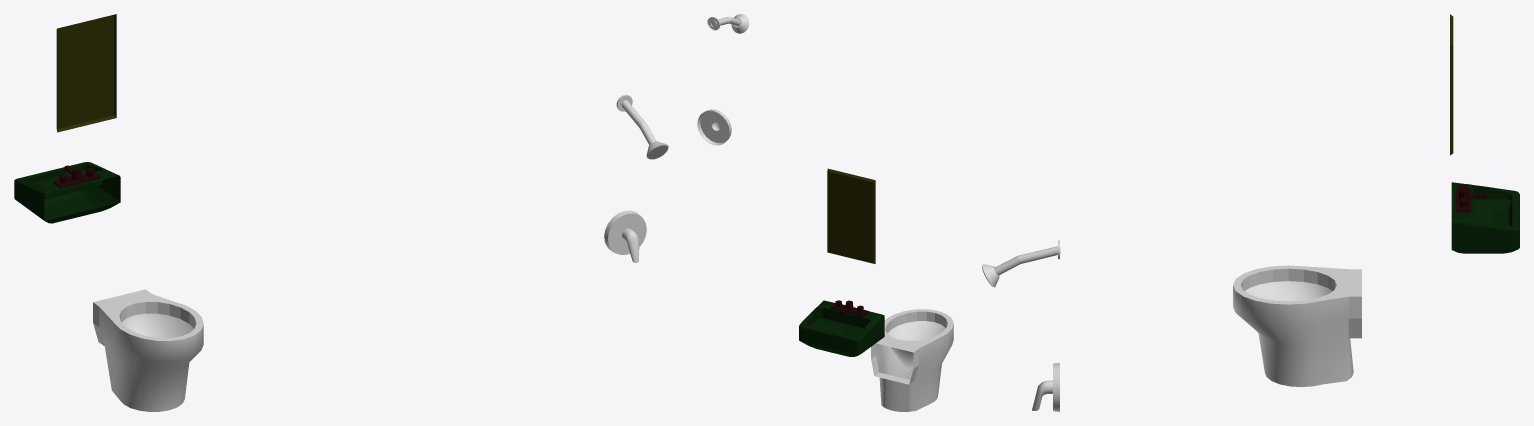
The picture shows the model from 3 angles, left to right: view 1: azimuth 30°, elevation 25°; view 2: azimuth 150°, elevation 25°; view 3: azimuth 270°, elevation 25°; orthographic projection. The views are drawn at different scales.
Visible parts, largest first — view 1: sinkAndMirror_ID, toilet1_ID, shower_ID; view 2: sinkAndMirror_ID, toilet1_ID, shower_ID; view 3: toilet1_ID, sinkAndMirror_ID, shower_ID.
Boxes of the visible parts, x1=… form: sinkAndMirror_ID: x1=14, y1=14, x2=120, y2=223; toilet1_ID: x1=93, y1=289, x2=203, y2=411; shower_ID: x1=604, y1=94, x2=668, y2=262; sinkAndMirror_ID: x1=799, y1=168, x2=884, y2=356; toilet1_ID: x1=871, y1=309, x2=953, y2=411; shower_ID: x1=697, y1=14, x2=749, y2=145; toilet1_ID: x1=1233, y1=265, x2=1361, y2=387; sinkAndMirror_ID: x1=1450, y1=14, x2=1519, y2=253; shower_ID: x1=982, y1=240, x2=1060, y2=411.
Size of the model in its own units: 2.7 by 2.01 by 2.84.
